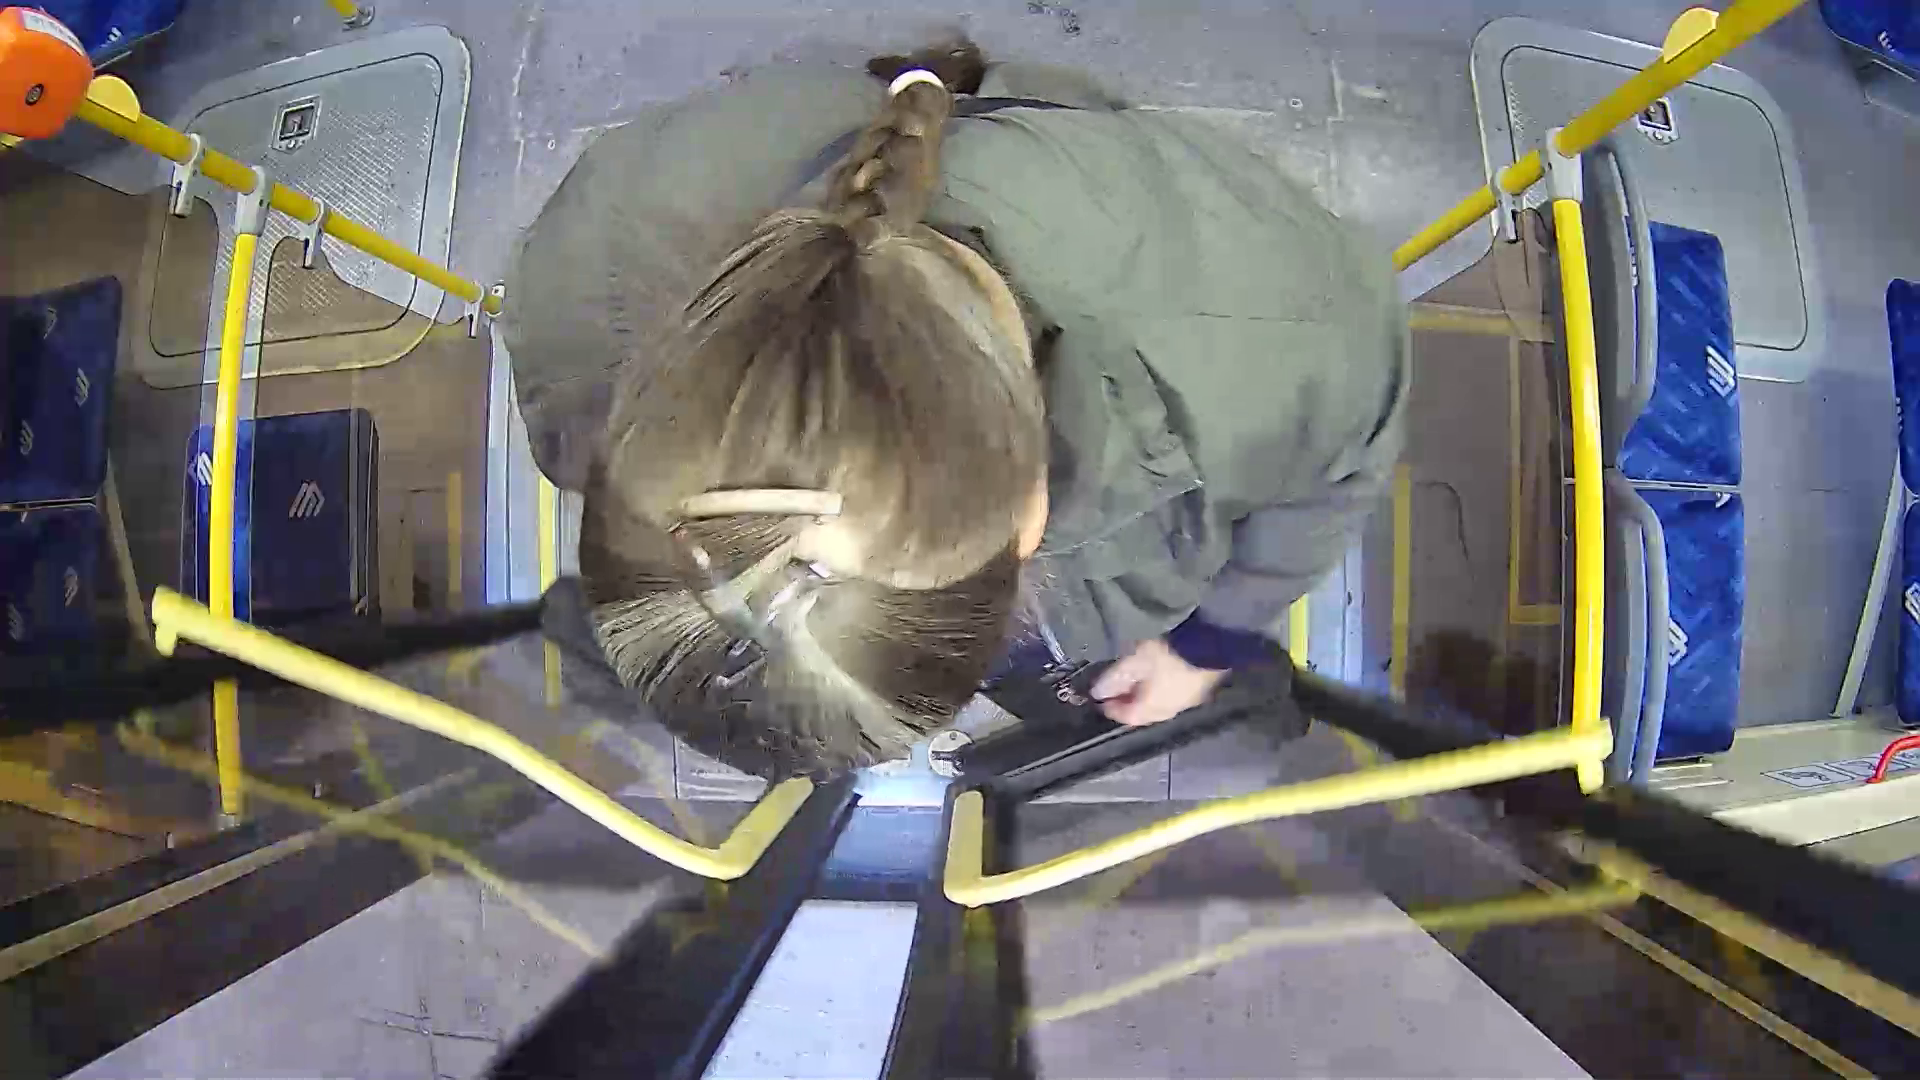person: (460, 56, 1521, 765)
